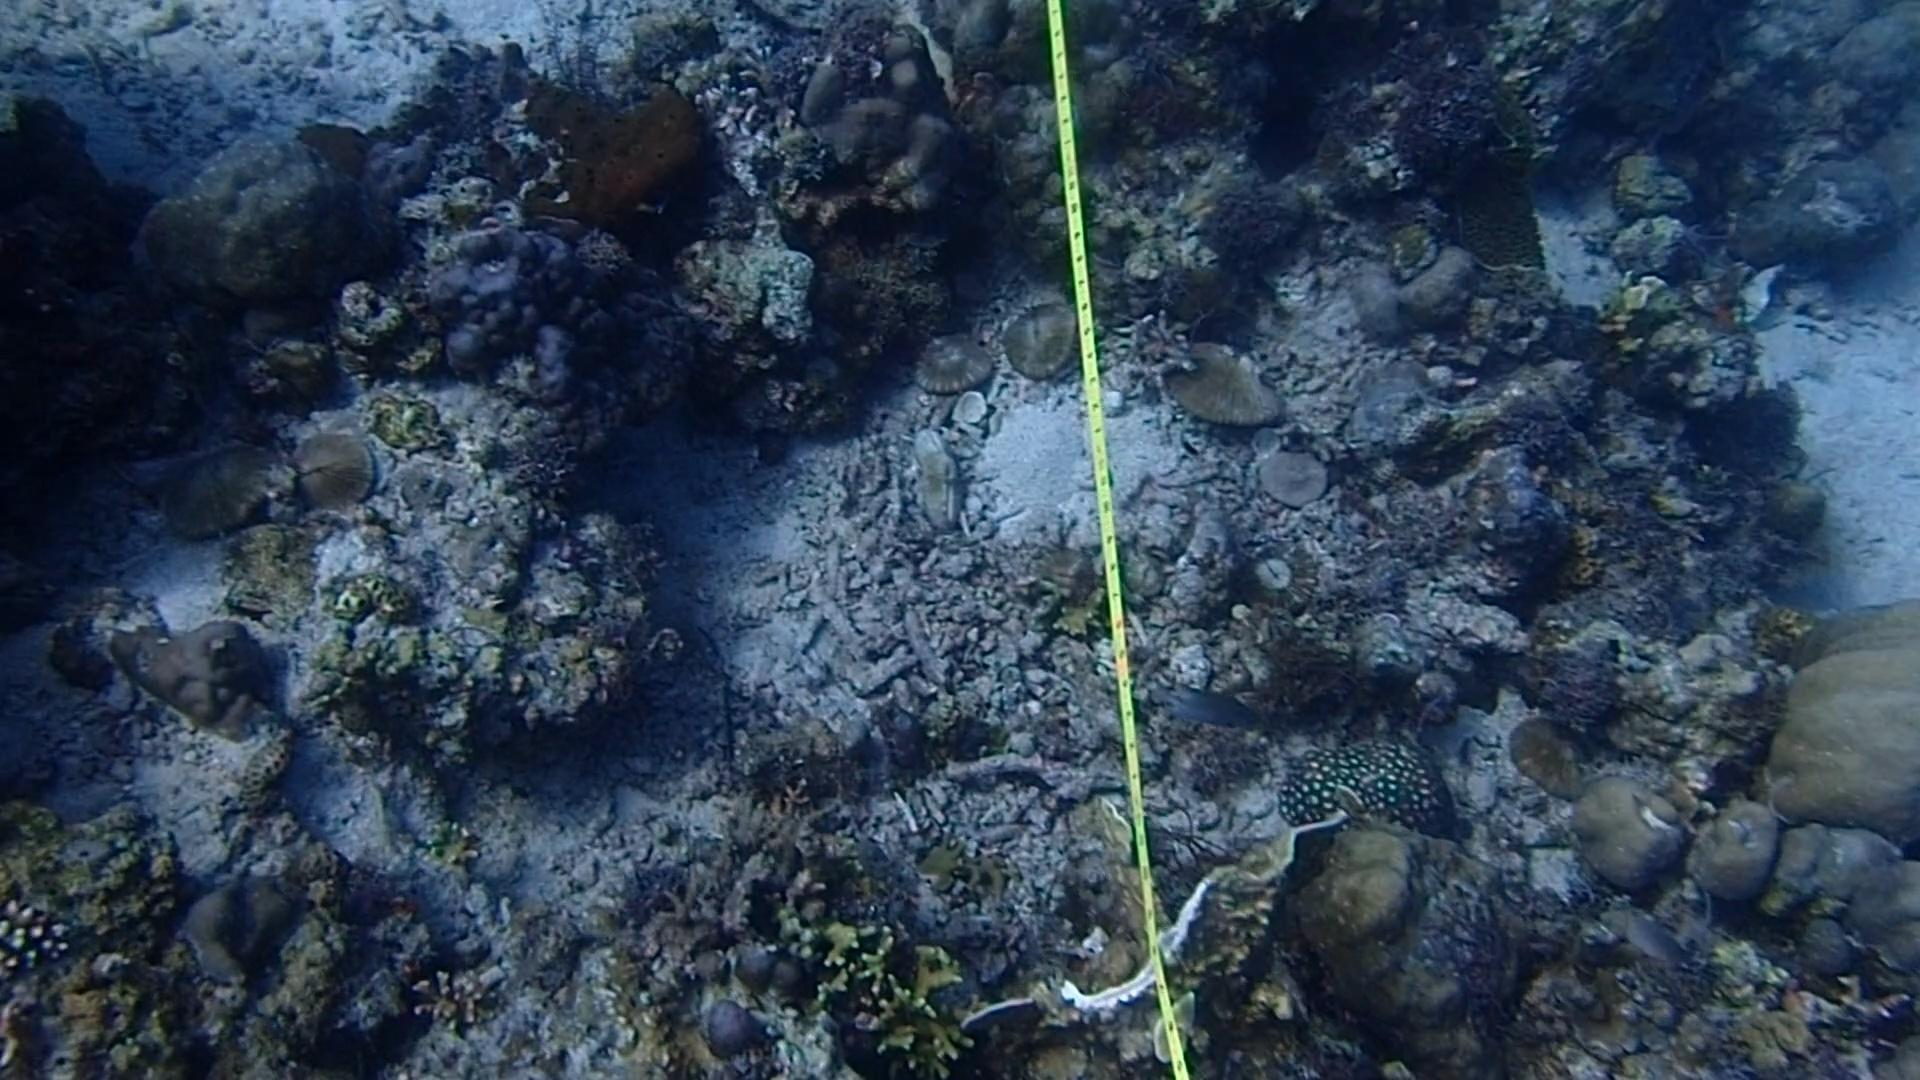Light Fish: (1158, 658, 1245, 750)
